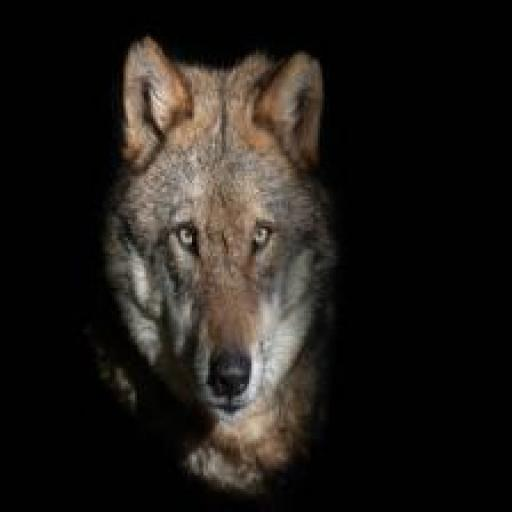wolf: (0, 16, 416, 512)
